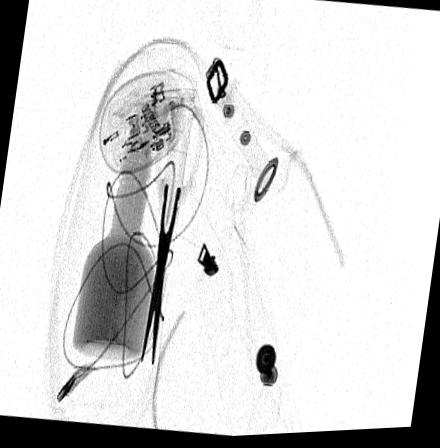Scissors: (137, 98, 208, 371)
